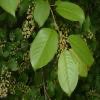Cherry leaf: (29, 28, 59, 74), (57, 48, 79, 96), (67, 32, 95, 67), (55, 2, 88, 24), (33, 0, 52, 30)
